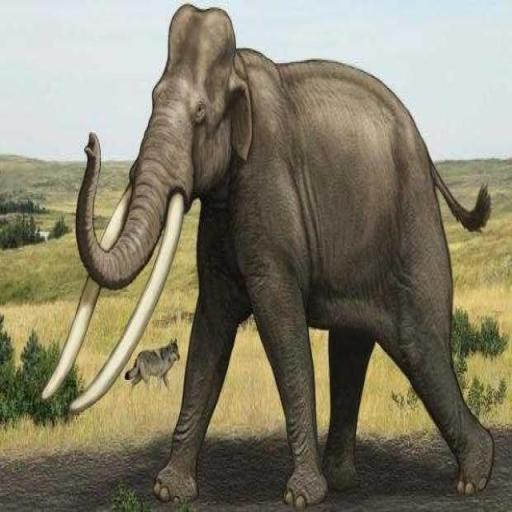Elephant: (40, 2, 495, 508)
